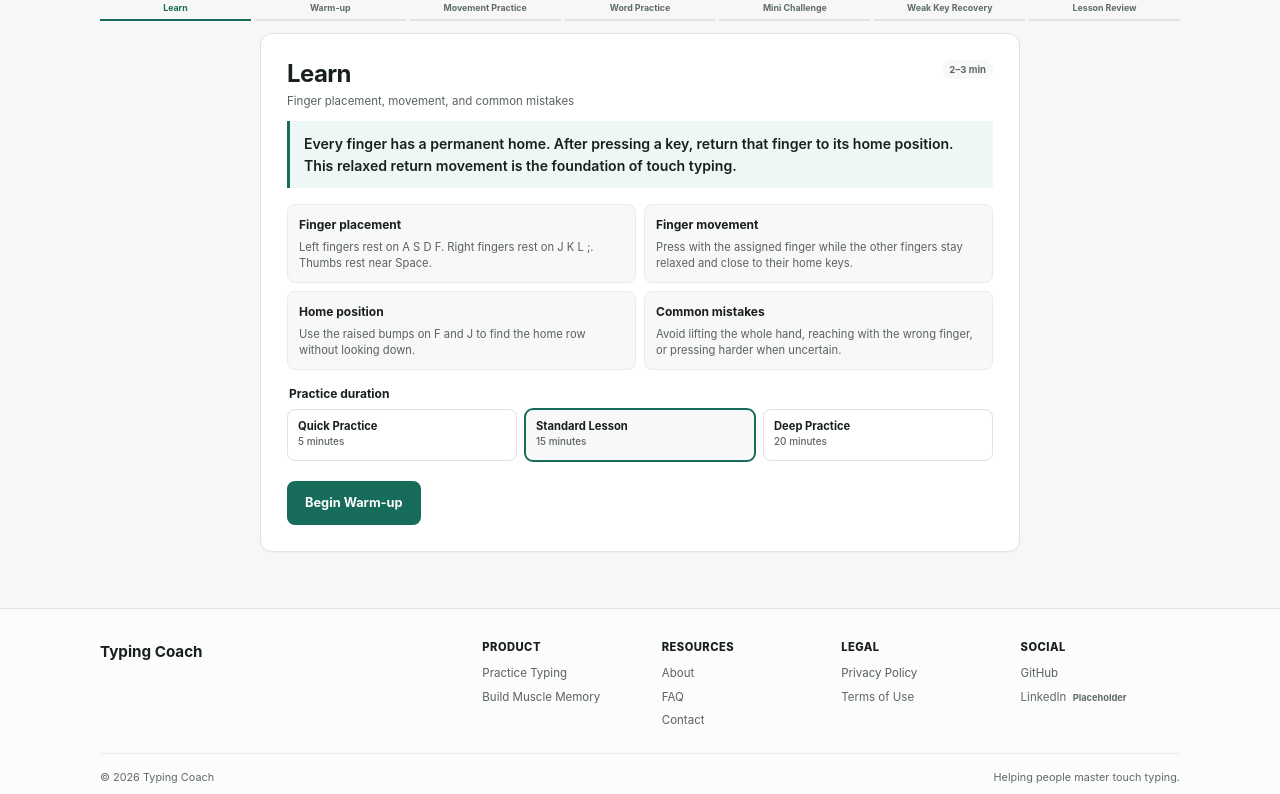
Scenario: dynamic guided lesson session › offers retry and deterministic offline practice when generation fails
(page scrolled)
Click the button "Begin Warm-up". click: coordinates (354, 504)
box: [287,482,421,526]
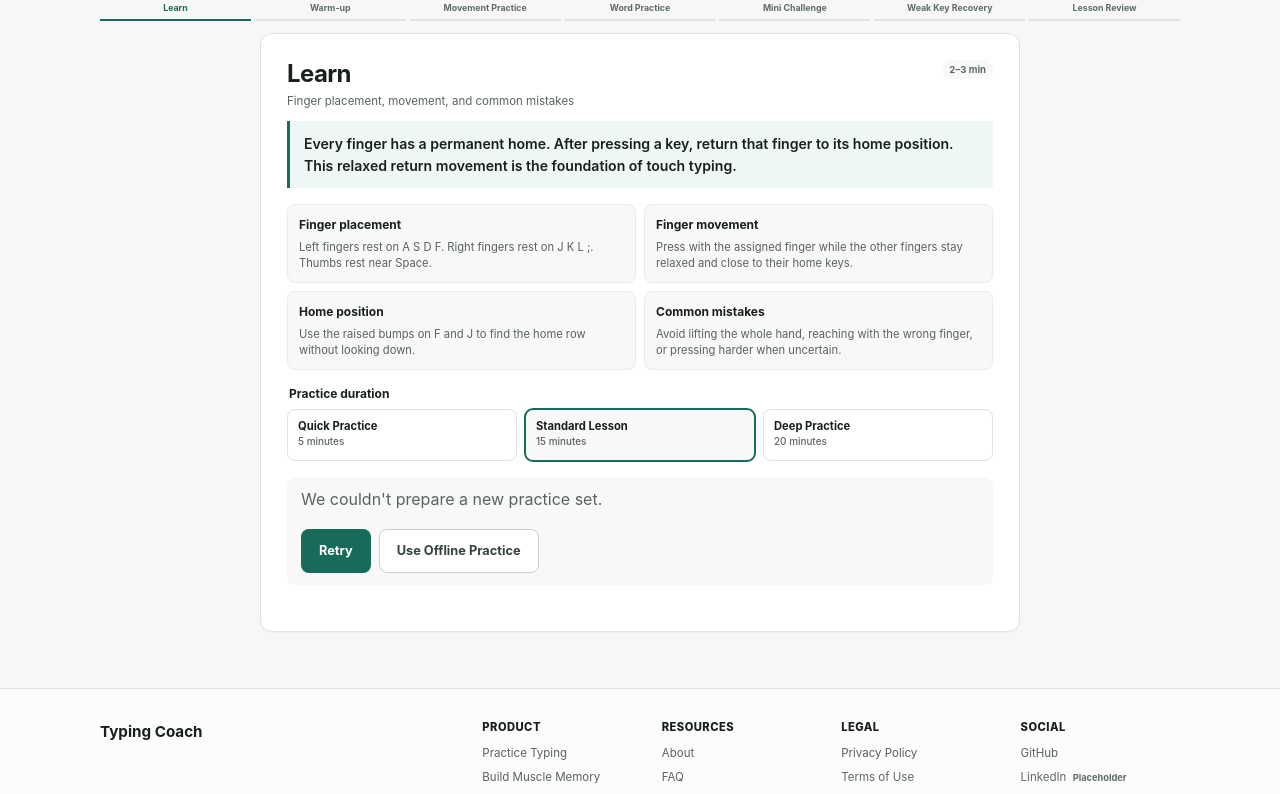
Result: the message shows "We couldn't prepare a new practice set." at [301,490,602,510]
Result: the button "Retry" is shown at [301,530,371,574]
Click the button "Use Offline Practice". click: coordinates (459, 552)
box: [379,530,539,574]
(page scrolled)
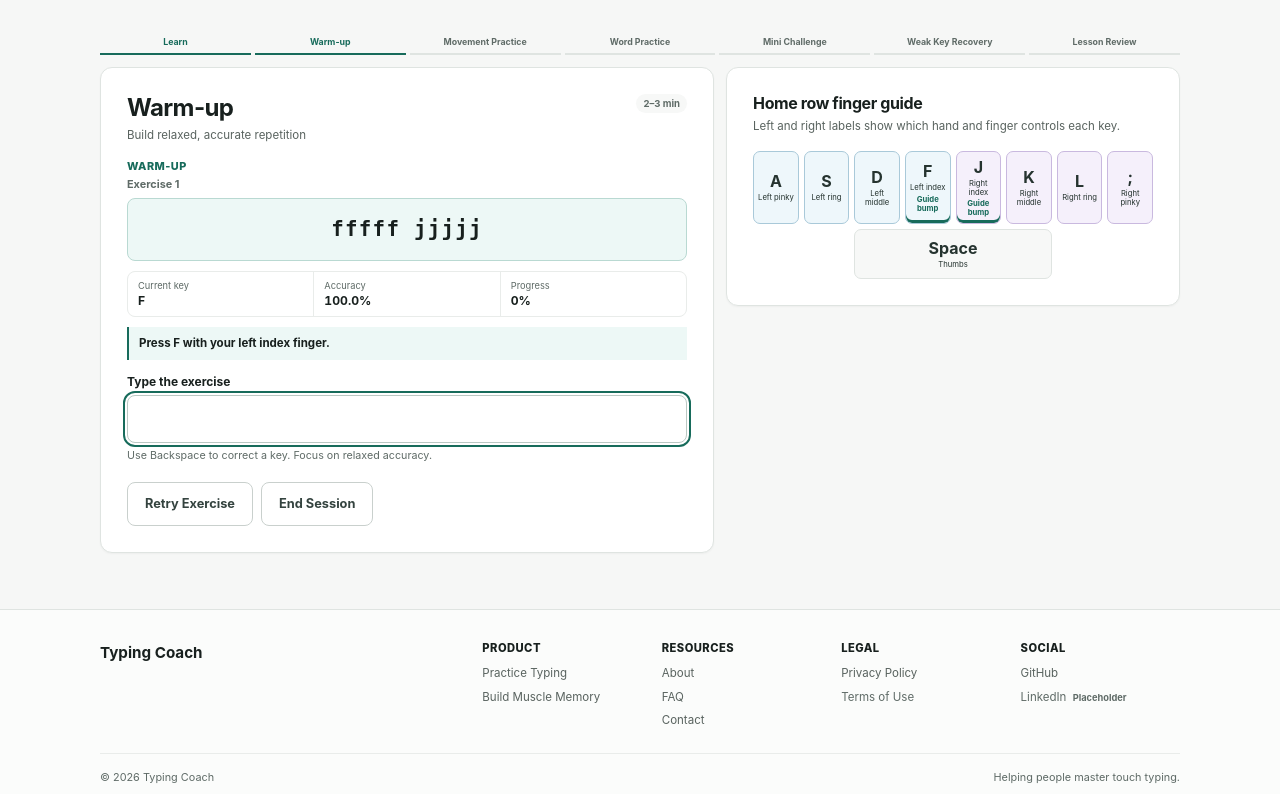
Result: the field labelled "Type the exercise" is shown at [127,394,687,442]
